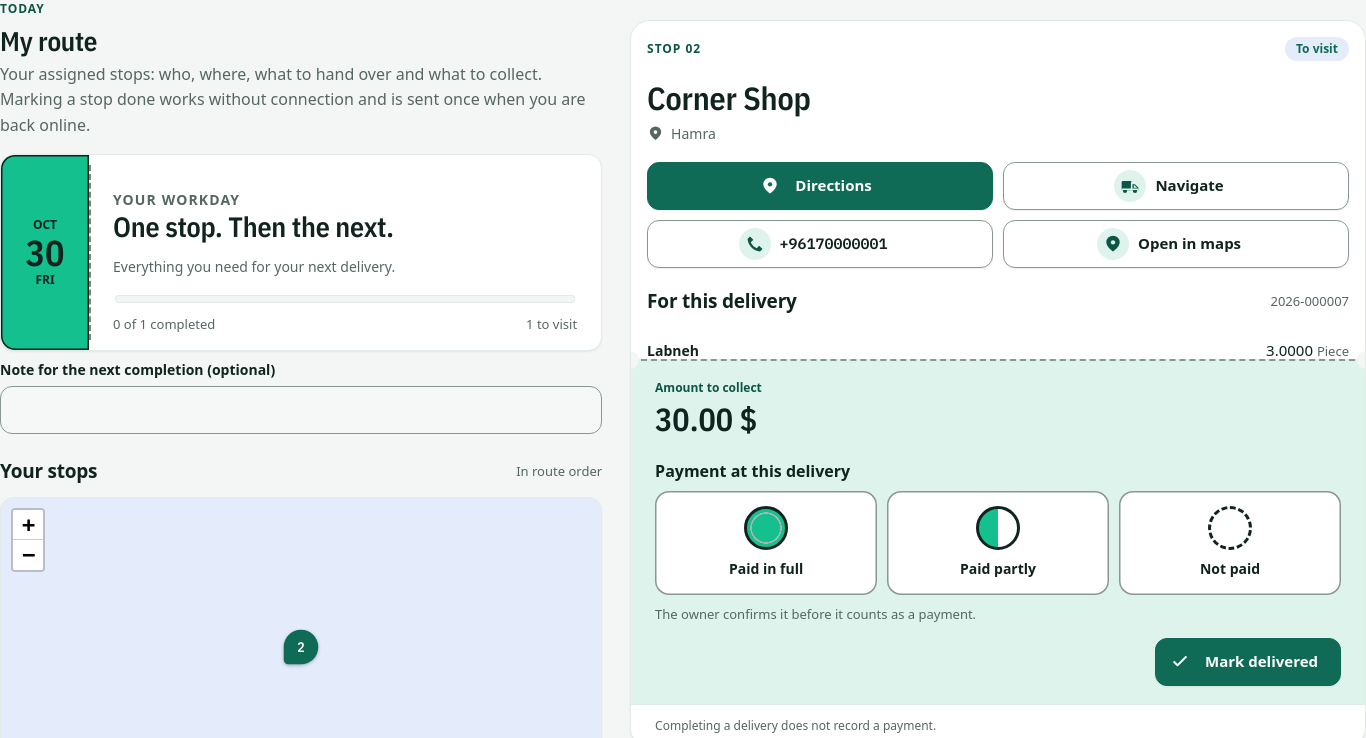
Test: driver sees only assigned stops with contact, items and amount, and completes with the version
The image size is (1366, 738).
Expected: the heading "Corner Shop" is shown, top-left (647, 77), bottom-right (811, 119)
Expected: the text "Labneh" is shown, top-left (647, 340), bottom-right (699, 359)
Type "paid cash" into the field labelled "Note for the next completion (optional)". click: (301, 410)
box: top-left (0, 386), bottom-right (602, 434)
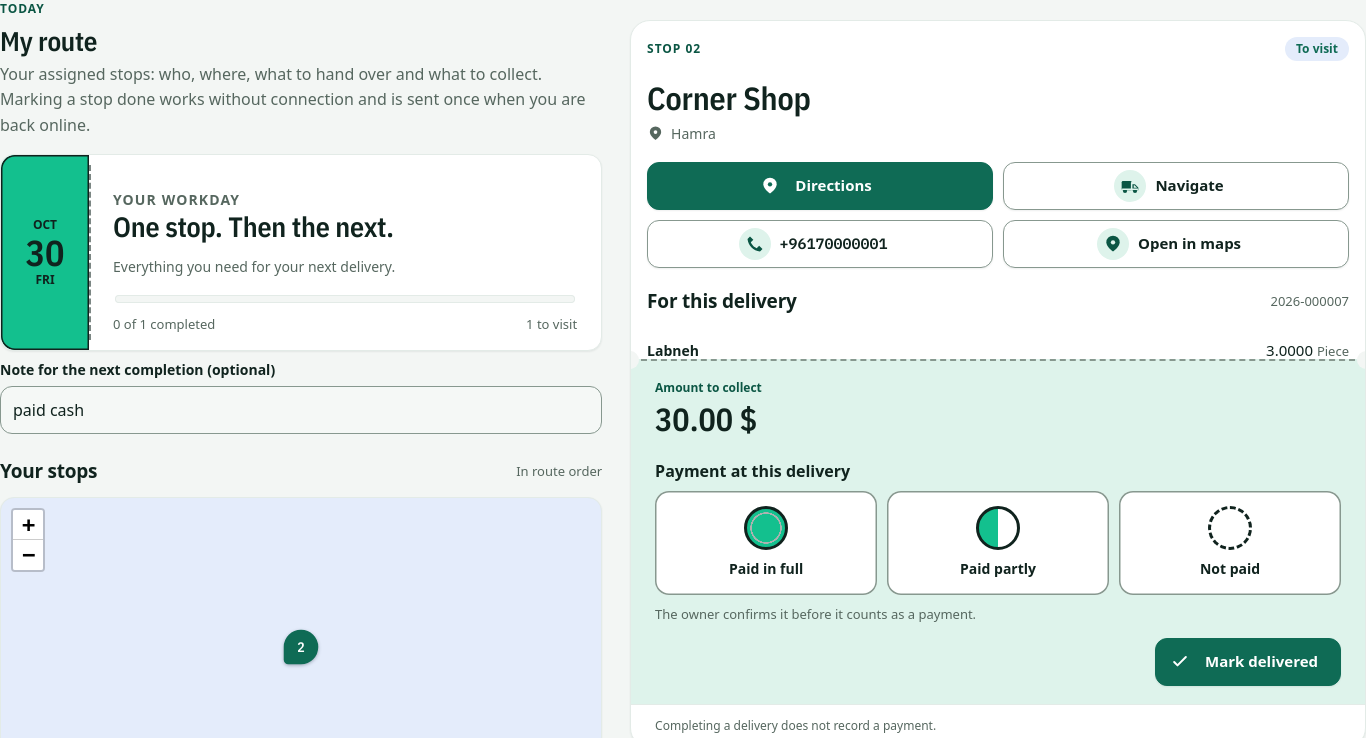
Click the button "Mark delivered". click: click(1248, 662)
box: top-left (1155, 638), bottom-right (1341, 686)
(page scrolled)
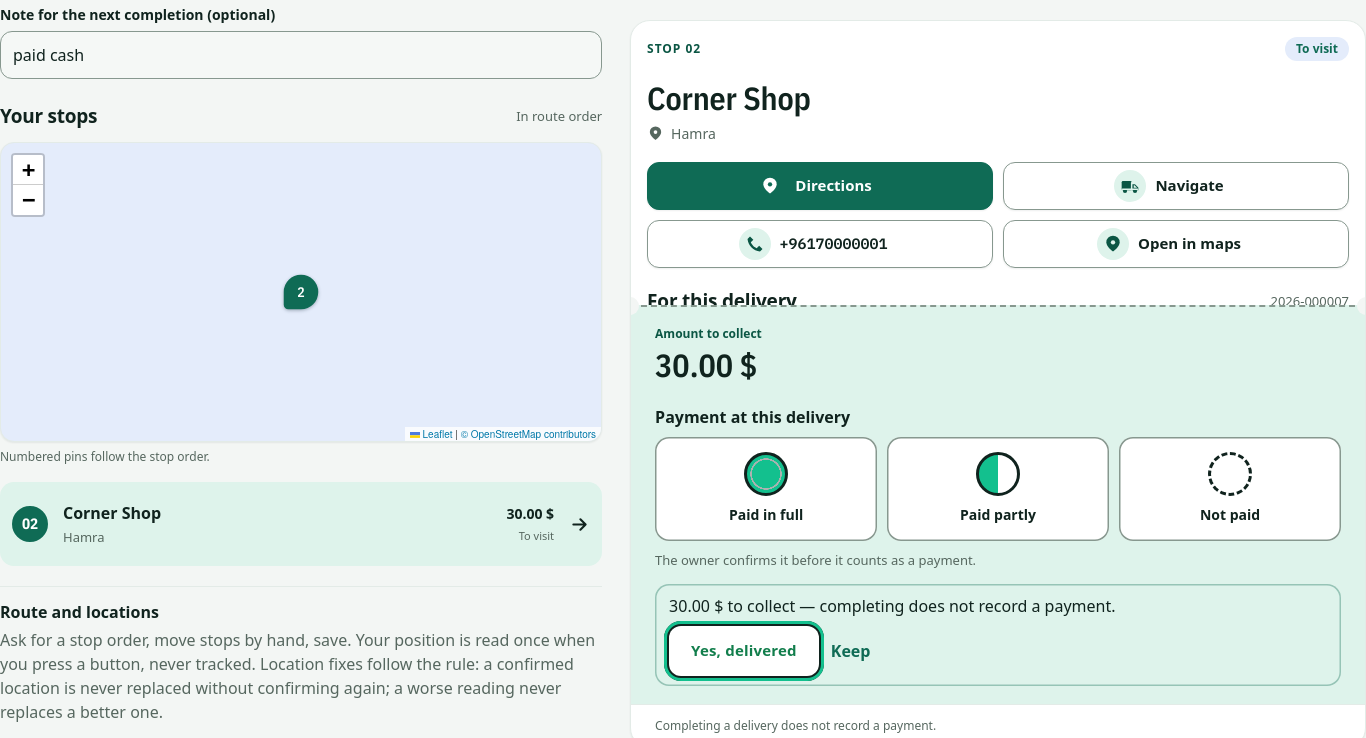
Click the button "Yes, delivered". click: click(744, 651)
box: top-left (669, 626), bottom-right (819, 676)
(page scrolled)
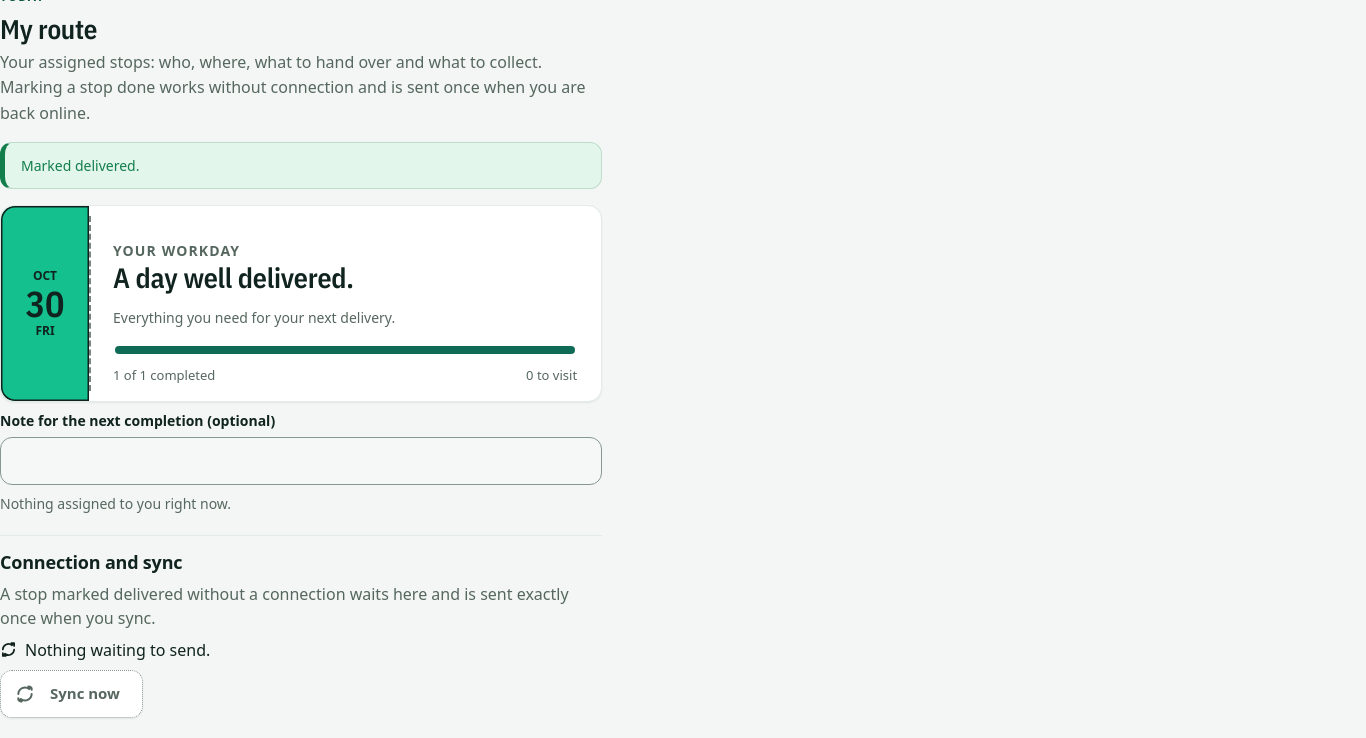
Expected: the text "Marked delivered." is shown, top-left (0, 142), bottom-right (602, 190)
Expected: the text "Nothing assigned to you right now." is shown, top-left (0, 494), bottom-right (231, 513)
Expected: the text "1 of 1 completed" is shown, top-left (113, 366), bottom-right (215, 385)
